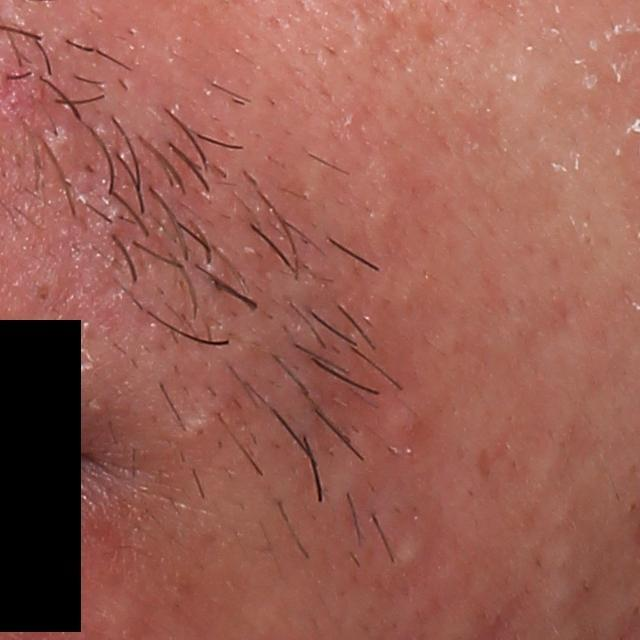comedo: (393, 533, 427, 573), (186, 408, 220, 443)
